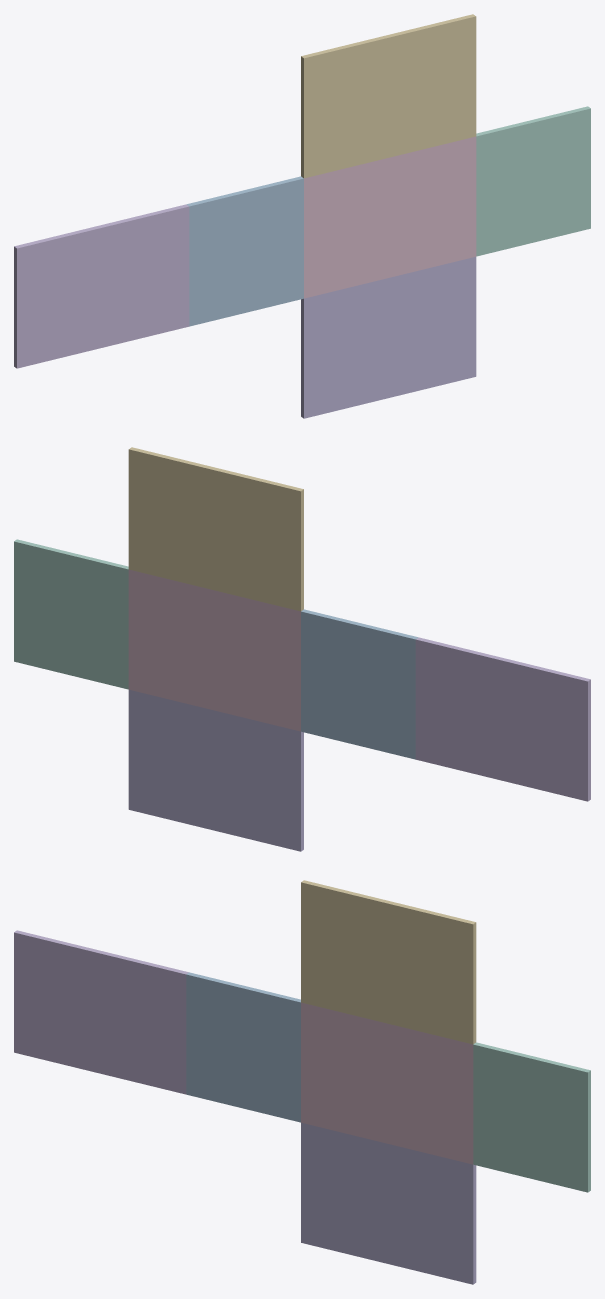
The model's file is jaring-balok.glb.
3 views of the same model, one above another, from view 1: azimuth 30°, elevation 25°; view 2: azimuth 150°, elevation 25°; view 3: azimuth 330°, elevation 25° (orthographic).
Visible parts, largest first — view 1: jaring-balok_4, jaring-balok_0, jaring-balok_5, jaring-balok_2, jaring-balok_1, jaring-balok_3; view 2: jaring-balok_4, jaring-balok_0, jaring-balok_5, jaring-balok_2, jaring-balok_1, jaring-balok_3; view 3: jaring-balok_4, jaring-balok_0, jaring-balok_5, jaring-balok_2, jaring-balok_3, jaring-balok_1.
Part boxes in pixels (x1,y1,x2,y2): jaring-balok_4: [301, 14, 476, 178]; jaring-balok_0: [14, 204, 189, 368]; jaring-balok_5: [301, 256, 476, 418]; jaring-balok_2: [304, 136, 476, 298]; jaring-balok_1: [186, 176, 303, 326]; jaring-balok_3: [476, 106, 590, 256]; jaring-balok_4: [128, 447, 303, 611]; jaring-balok_0: [415, 637, 590, 801]; jaring-balok_5: [128, 689, 303, 851]; jaring-balok_2: [128, 569, 300, 731]; jaring-balok_1: [301, 609, 418, 759]; jaring-balok_3: [14, 539, 128, 689]; jaring-balok_4: [301, 880, 476, 1044]; jaring-balok_0: [14, 930, 188, 1094]; jaring-balok_5: [301, 1122, 476, 1284]; jaring-balok_2: [301, 1002, 473, 1164]; jaring-balok_3: [473, 1042, 590, 1192]; jaring-balok_1: [186, 972, 300, 1122].
Size of the model in its own units: 5 by 3 by 0.045.
